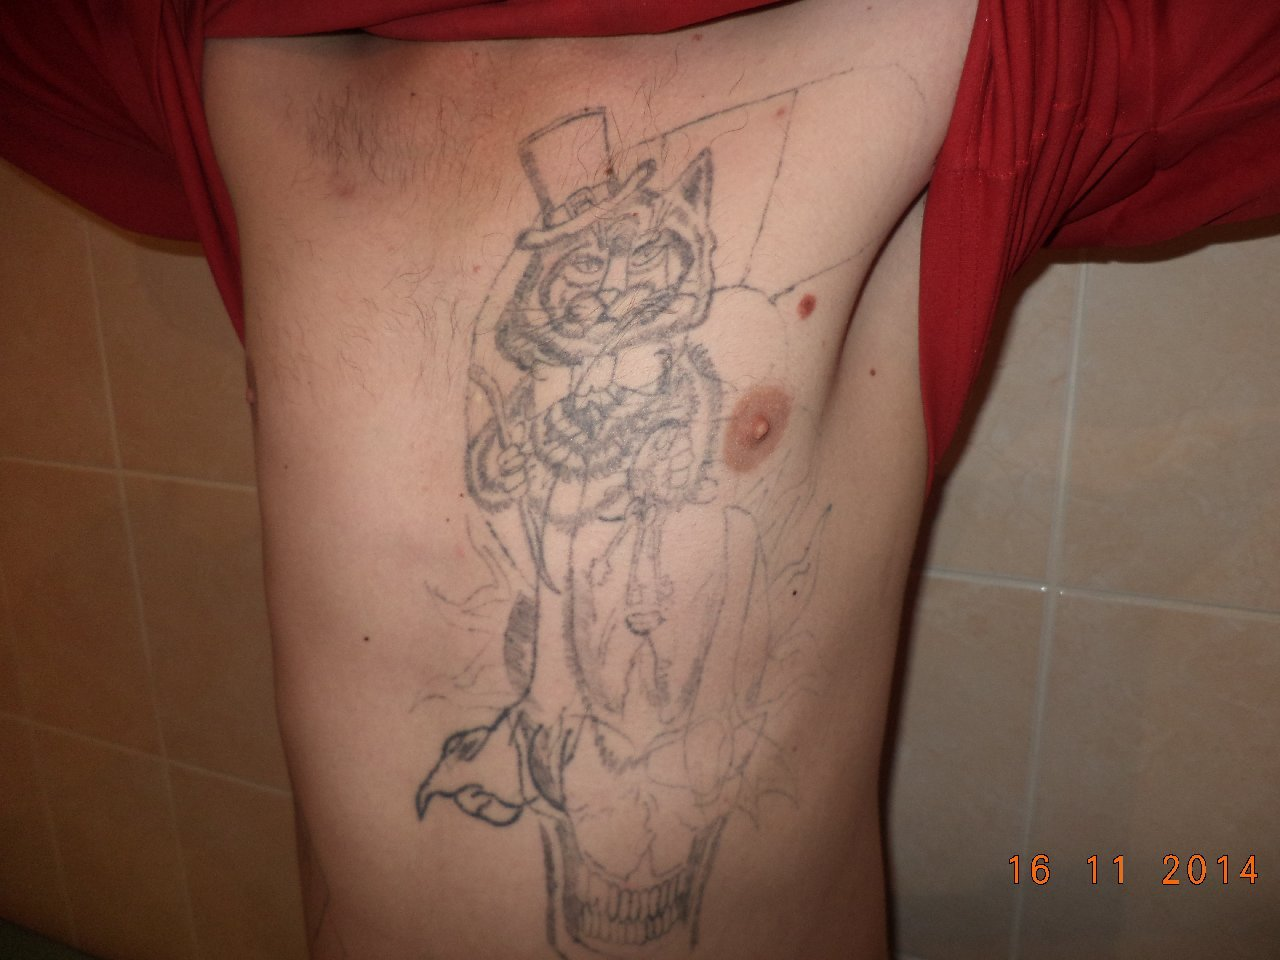tatu8_kot: (464, 73, 744, 594)
